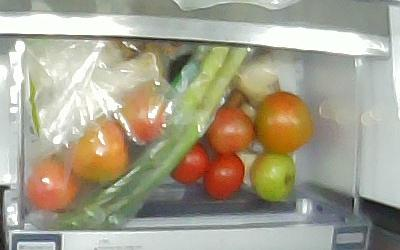tomato: (251, 90, 314, 154), (205, 104, 256, 154), (247, 150, 295, 201), (202, 150, 245, 200), (168, 140, 208, 184)
tomato_vinyl: (69, 114, 129, 182), (26, 154, 81, 210), (121, 82, 168, 141)
